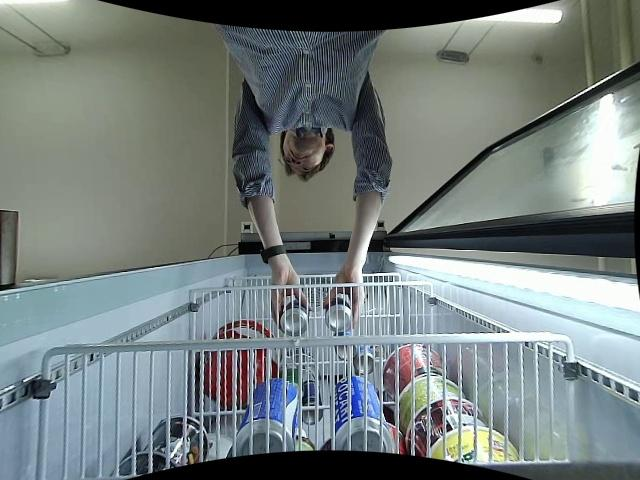00_hand: (326, 266, 365, 328), (266, 268, 308, 325)
